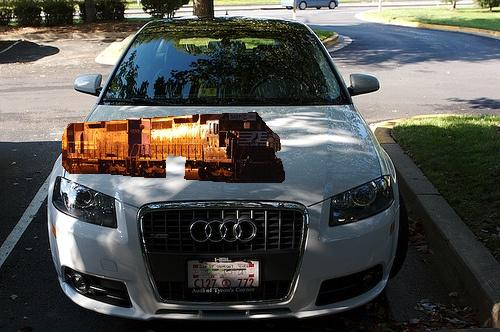tampered: (63, 113, 285, 183)
